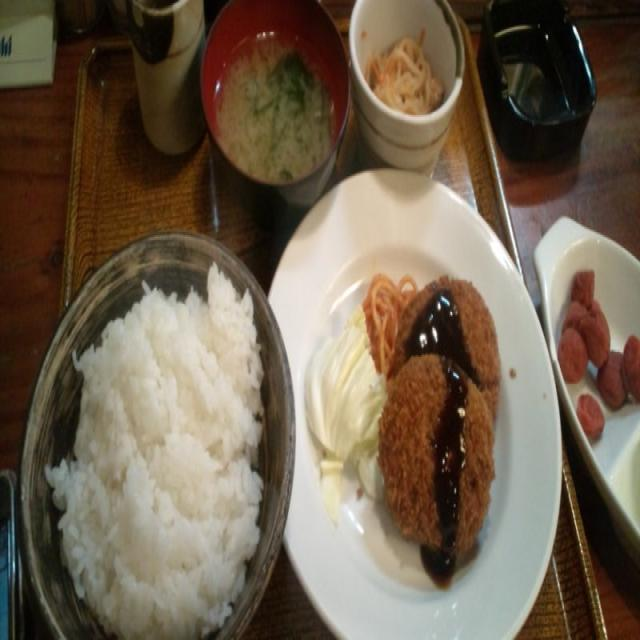Rice: (43, 265, 280, 640)
